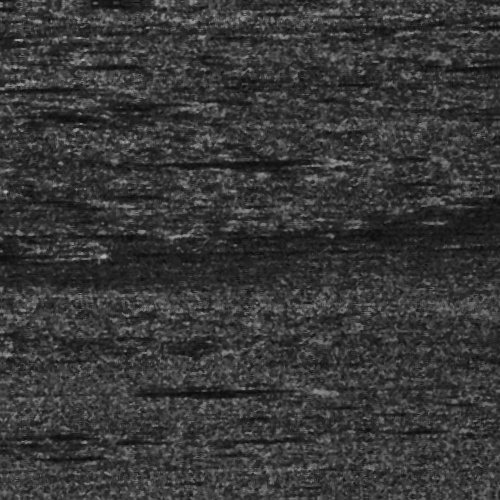object: (275, 153, 380, 168), (26, 246, 109, 255), (58, 79, 141, 86), (285, 385, 348, 392), (149, 228, 202, 233), (182, 99, 213, 102)
shadow: (174, 153, 327, 168), (170, 385, 316, 392), (0, 246, 67, 255), (16, 79, 99, 86), (61, 228, 175, 233), (117, 99, 197, 102)
